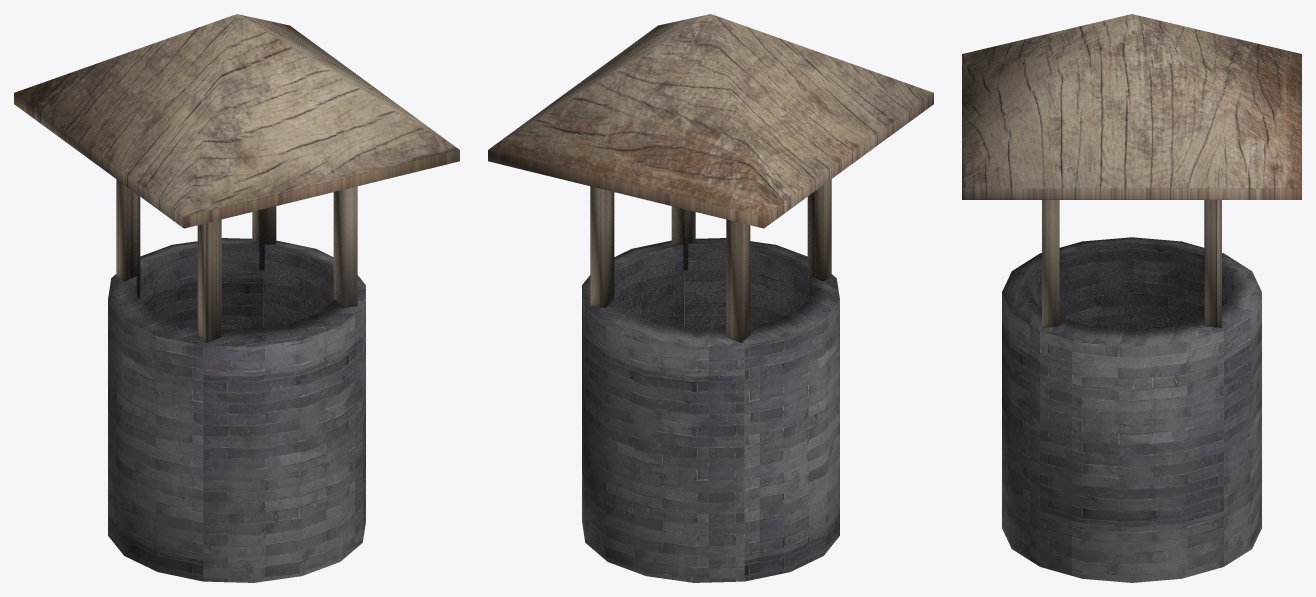
File: RATATATATATA.fbx
The picture shows the model from 3 angles, left to right: view 1: azimuth 30°, elevation 25°; view 2: azimuth 150°, elevation 25°; view 3: azimuth 270°, elevation 25°; orthographic projection.
Visible parts, largest first — view 1: Cylinder; view 2: Cylinder; view 3: Cylinder.
Part boxes in pixels (bbox=[...]): Cylinder: bbox=[14, 14, 459, 582]; Cylinder: bbox=[488, 14, 933, 582]; Cylinder: bbox=[962, 14, 1301, 582].
Bounding box in the file's own units: 245 × 436 × 261.
